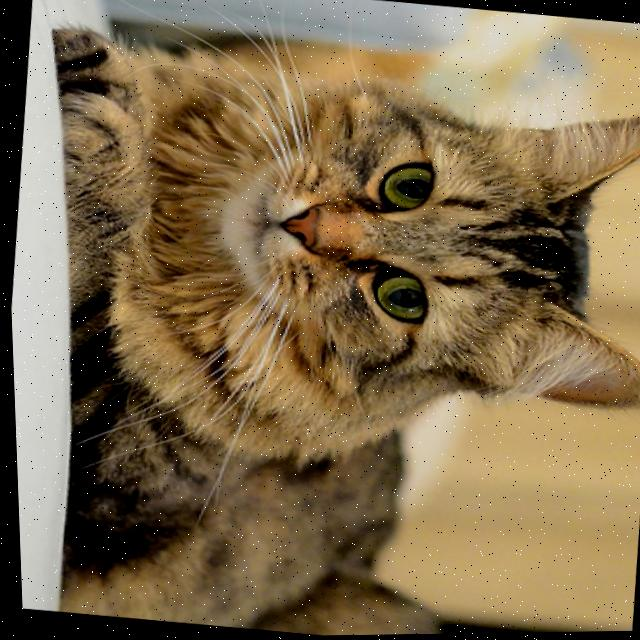Maine Coon: (0, 10, 640, 640)
